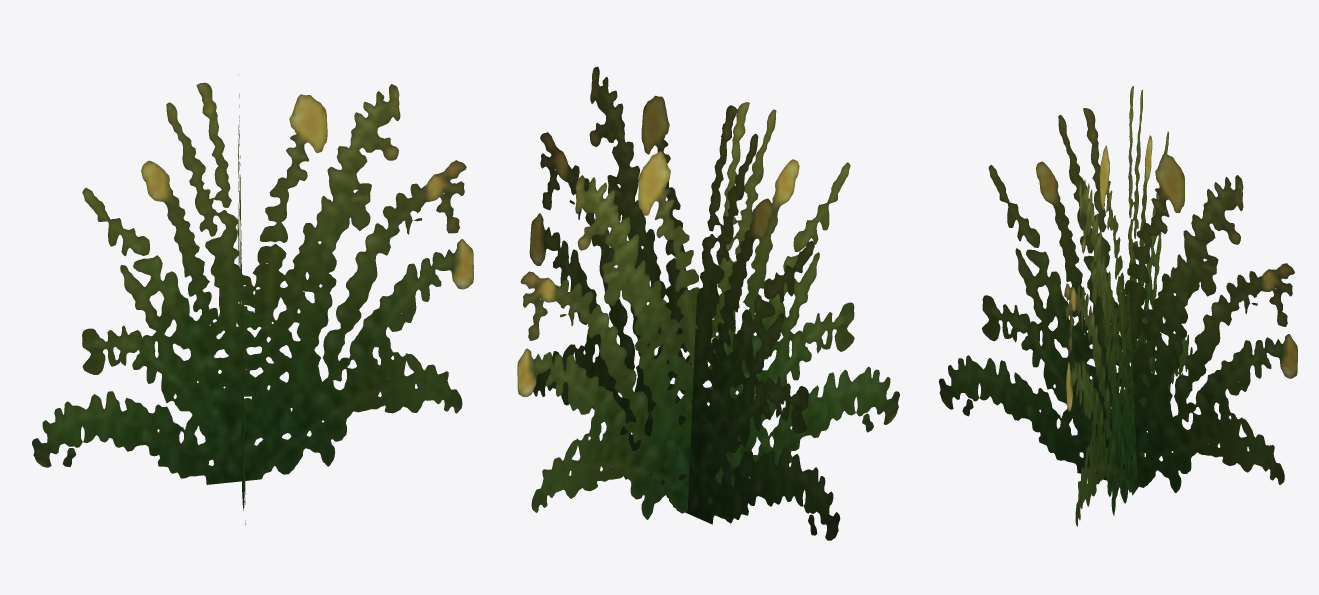
File: wm_灌木小灌木06.fbx
3 renders of one model, left to right at view 1: azimuth 30°, elevation 25°; view 2: azimuth 150°, elevation 25°; view 3: azimuth 270°, elevation 25°, orthographic. The views are drawn at different scales.
Visible parts, largest first — view 1: wm_灌木小灌木06; view 2: wm_灌木小灌木06; view 3: wm_灌木小灌木06.
Part boxes in pixels (left/top/right/bottom): wm_灌木小灌木06: left=32, top=74, right=473, bottom=525; wm_灌木小灌木06: left=517, top=66, right=899, bottom=540; wm_灌木小灌木06: left=939, top=86, right=1297, bottom=526.
Bounding box in the file's own units: 83.59 × 82.62 × 70.52.
